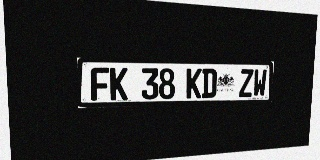3: (142, 68, 158, 100)
8: (159, 68, 175, 99)
D: (202, 69, 217, 98)
F: (90, 67, 109, 101)
K: (110, 68, 128, 100), (186, 68, 202, 98)
W: (253, 69, 267, 97)
Z: (239, 69, 253, 97)
